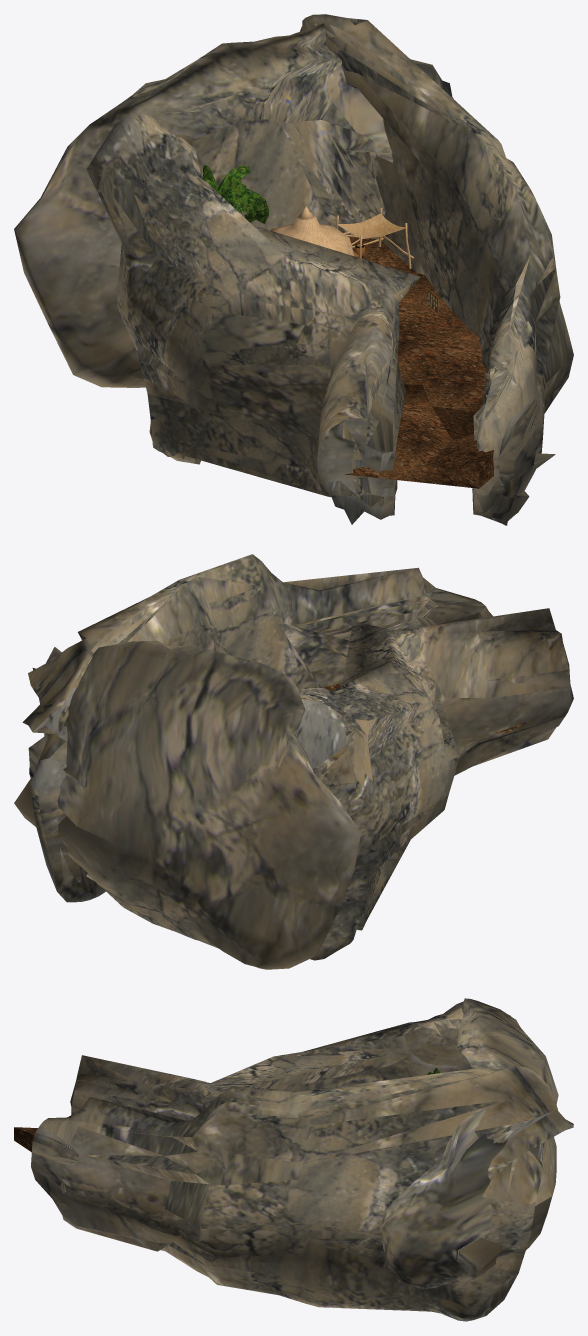
3 renders of one model, top to bottom at view 1: azimuth 30°, elevation 25°; view 2: azimuth 150°, elevation 25°; view 3: azimuth 270°, elevation 25°, orthographic. The views are drawn at different scales.
Visible parts, largest first — view 1: StoneBig, StoneBig002, StoneBig001, Box001, wood, desert_tent004, desert_tent003; view 2: StoneBig002, StoneBig, StoneBig001; view 3: StoneBig001, StoneBig002, StoneBig, Box001.
Part boxes in pixels (left/top/right/bottom): StoneBig: left=86, top=113, right=420, bottom=524; StoneBig002: left=14, top=23, right=453, bottom=387; StoneBig001: left=300, top=14, right=573, bottom=525; Box001: left=344, top=237, right=493, bottom=488; wood: left=202, top=165, right=268, bottom=223; desert_tent004: left=270, top=206, right=354, bottom=255; desert_tent003: left=336, top=208, right=413, bottom=268; StoneBig002: left=14, top=640, right=360, bottom=969; StoneBig: left=296, top=608, right=573, bottom=960; StoneBig001: left=22, top=554, right=492, bottom=902; StoneBig001: left=31, top=1066, right=573, bottom=1321; StoneBig002: left=379, top=998, right=558, bottom=1289; StoneBig: left=70, top=1001, right=472, bottom=1121; Box001: left=14, top=1115, right=70, bottom=1151.
Bounding box in the file's own units: 5551 × 8592 × 4499.
